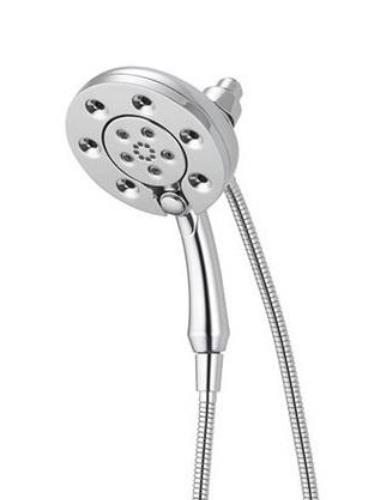Ducha: (33, 46, 340, 500)
